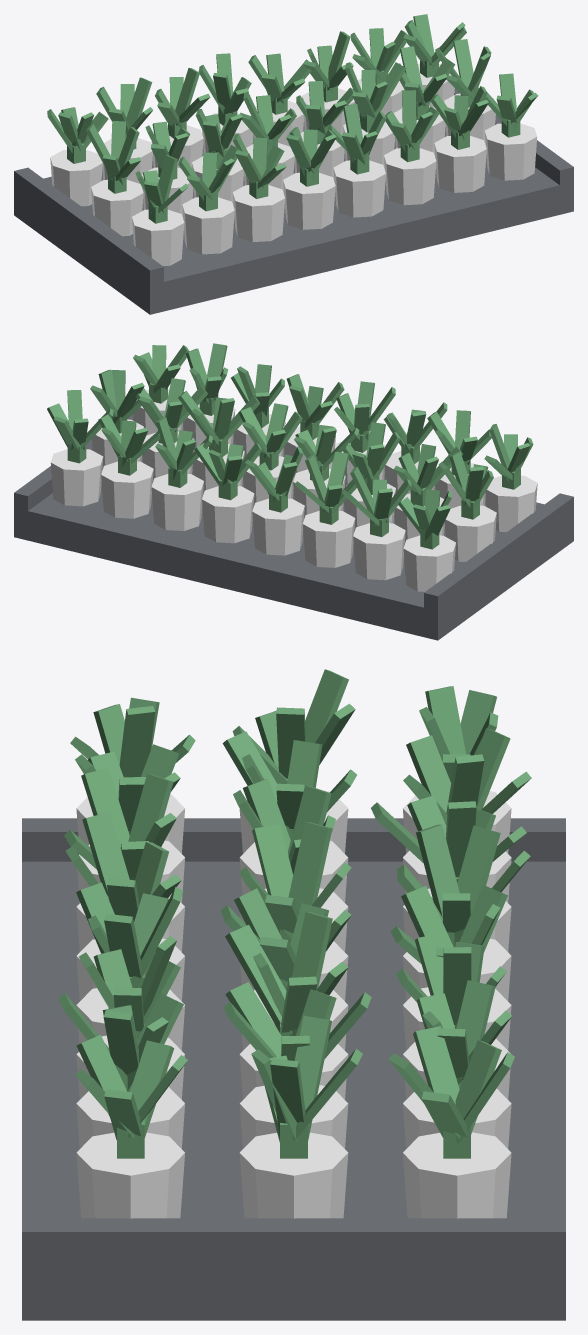
Rendered from vertical-farm-and-hydroponics-tower-vertical-farm-and--6c743416__38356.glb.
The picture shows the model from 3 angles, top to bottom: view 1: azimuth 30°, elevation 25°; view 2: azimuth 150°, elevation 25°; view 3: azimuth 270°, elevation 25°; orthographic projection. The views are drawn at different scales.
Parts seen in each view (by area): view 1: vertical-farm-and-hydroponics-tower-herb-tray; view 2: vertical-farm-and-hydroponics-tower-herb-tray; view 3: vertical-farm-and-hydroponics-tower-herb-tray.
Boxes of the visible parts, x1,y1,x2,y2 form: vertical-farm-and-hydroponics-tower-herb-tray: (14, 14, 573, 314); vertical-farm-and-hydroponics-tower-herb-tray: (14, 343, 573, 640); vertical-farm-and-hydroponics-tower-herb-tray: (22, 669, 565, 1320).
Bounding box in the file's own units: 0.9 × 0.2621 × 0.5001.
